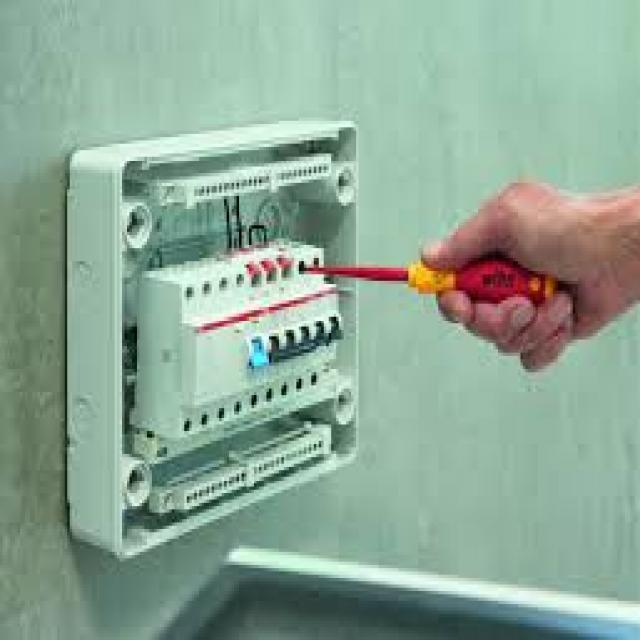screwdriver: (294, 240, 563, 322)
